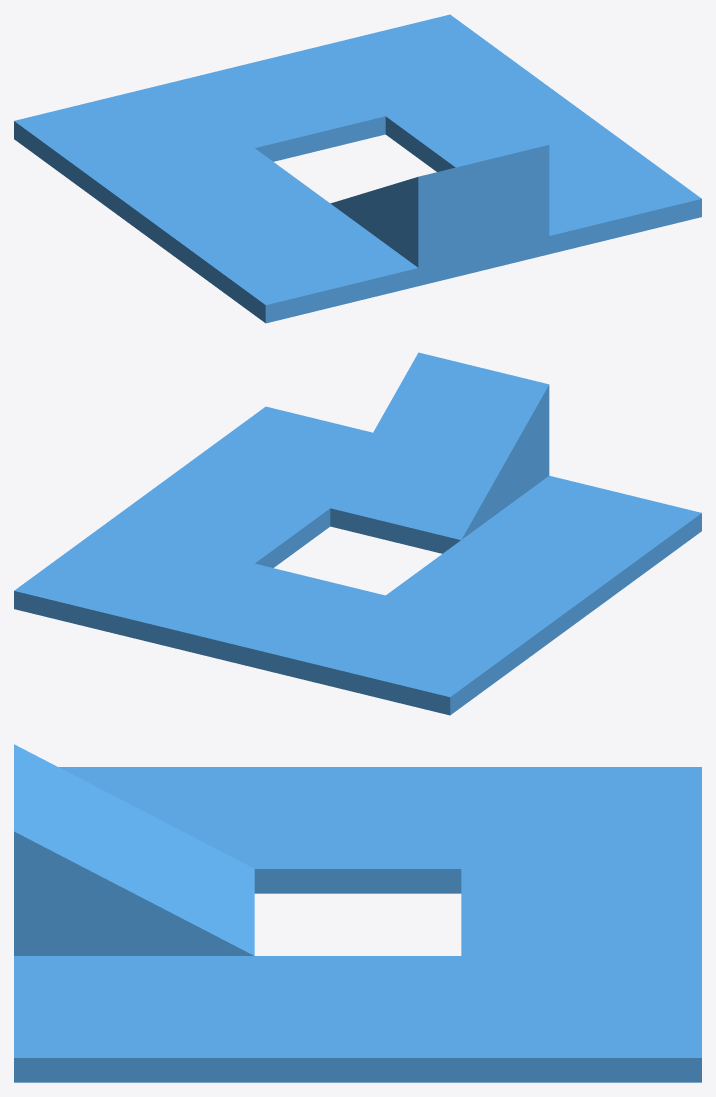
The model's file is RingRamp.glb.
3 renders of one model, top to bottom at view 1: azimuth 30°, elevation 25°; view 2: azimuth 150°, elevation 25°; view 3: azimuth 270°, elevation 25°, orthographic. The views are drawn at different scales.
Size of the model in its own units: 1 by 0.24 by 1.
